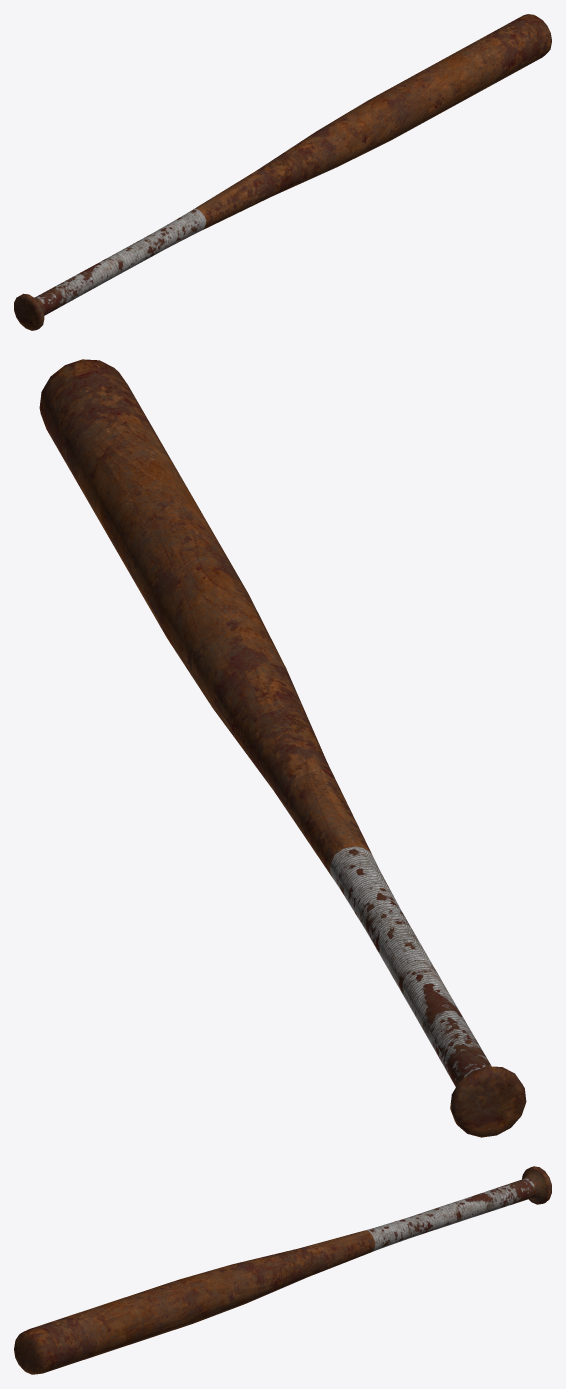
Rendered from Anim_idle_bate_objetos.0021.obj.
3 views of the same model, one above another, from view 1: azimuth 90°, elevation 25°; view 2: azimuth 150°, elevation 25°; view 3: azimuth 270°, elevation 25° (orthographic). The views are drawn at different scales.
Parts seen in each view (by area): view 1: Bate1; view 2: Bate1; view 3: Bate1.
Part boxes in pixels (x1=…): Bate1: x1=14, y1=14, x2=551, y2=330; Bate1: x1=39, y1=359, x2=526, y2=1137; Bate1: x1=14, y1=1166, x2=551, y2=1374.
Bounding box in the file's own units: 4.01 × 0.738 × 3.87.
